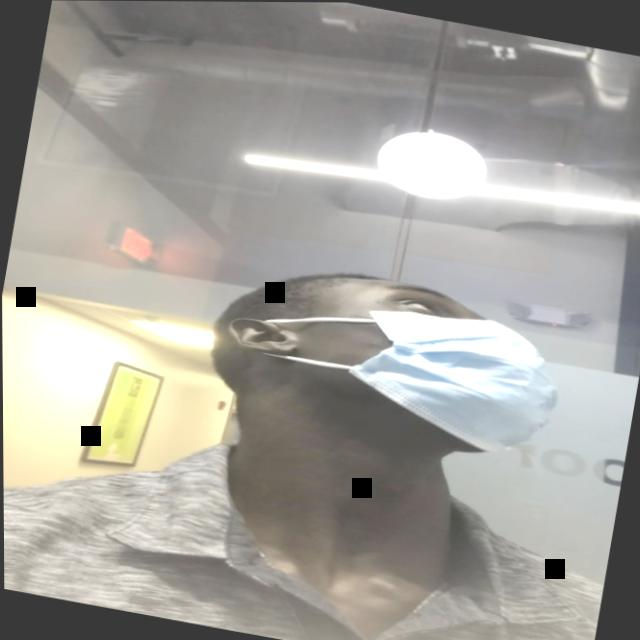Mask: (206, 249, 569, 461)
